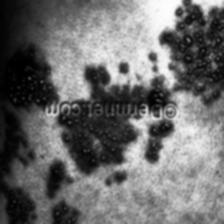Toxin: (164, 0, 224, 103), (51, 118, 176, 167), (1, 171, 76, 224), (84, 55, 160, 102), (3, 48, 54, 100), (1, 111, 32, 168)
